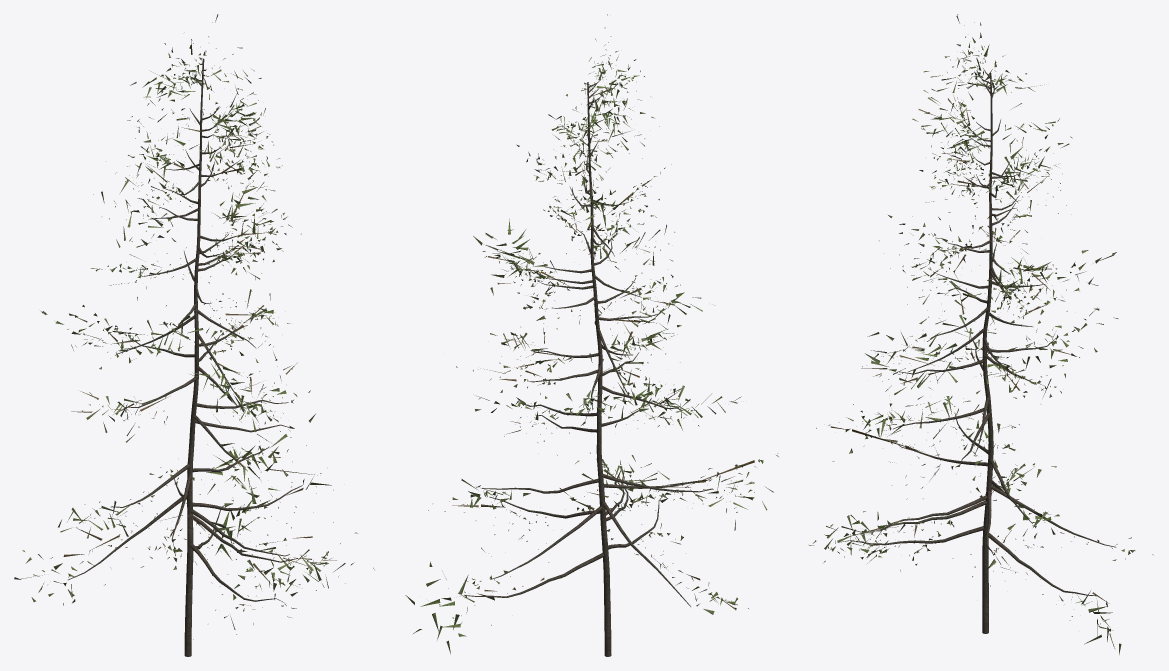
File: fir_tree_opt.gltf
3 views of the same model, side by side, from view 1: azimuth 30°, elevation 25°; view 2: azimuth 150°, elevation 25°; view 3: azimuth 270°, elevation 25° (orthographic). The views are drawn at different scales.
Visible parts, largest first — view 1: fir_tree_opt; view 2: fir_tree_opt; view 3: fir_tree_opt.
Part boxes in pixels (<box>): fir_tree_opt: <box>14,14,374,656</box>; fir_tree_opt: <box>405,14,778,656</box>; fir_tree_opt: <box>809,14,1153,654</box>.
Size of the model in its own units: 4.01 by 7.66 by 3.86.
2 materials, 2 textured.
